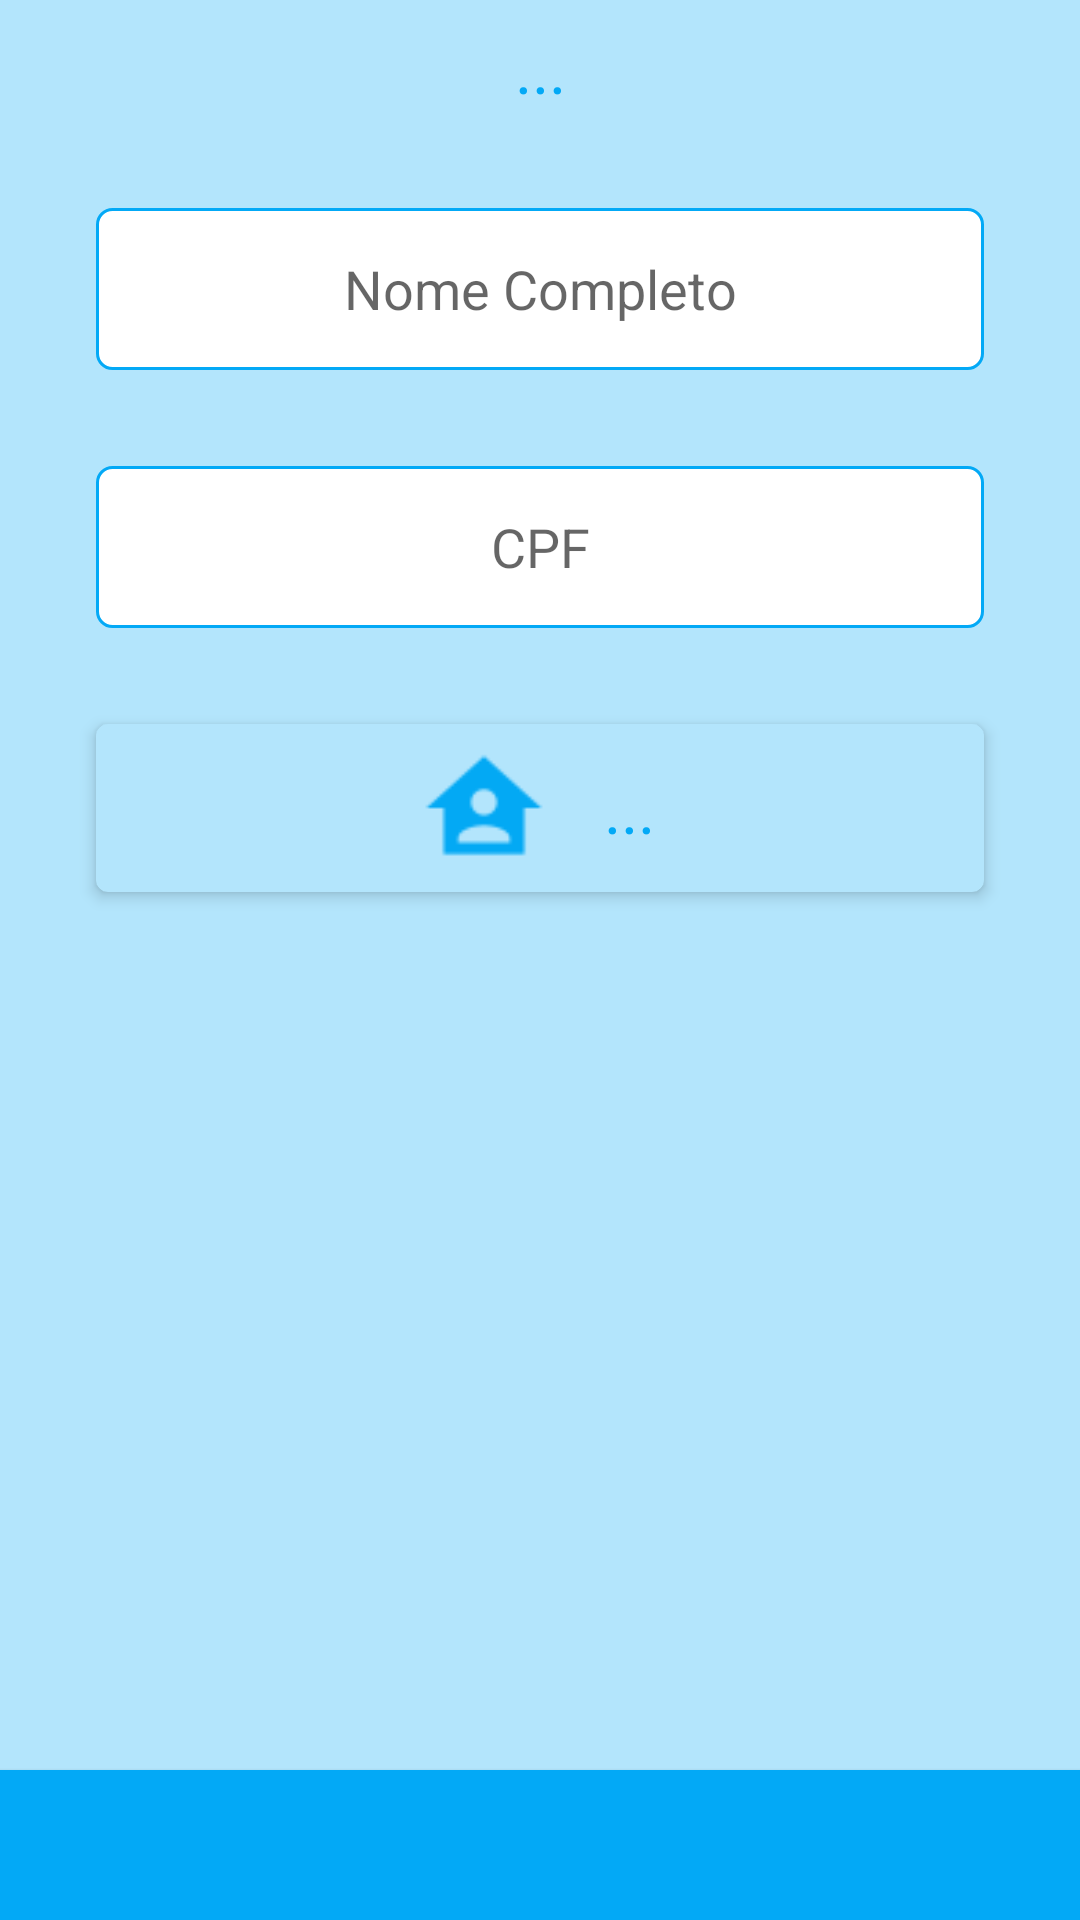

Locate icon controls on the screen. Image size 1080×1920, boxes as (x1, y1, x2, y2).
home: (426, 755, 542, 856)
